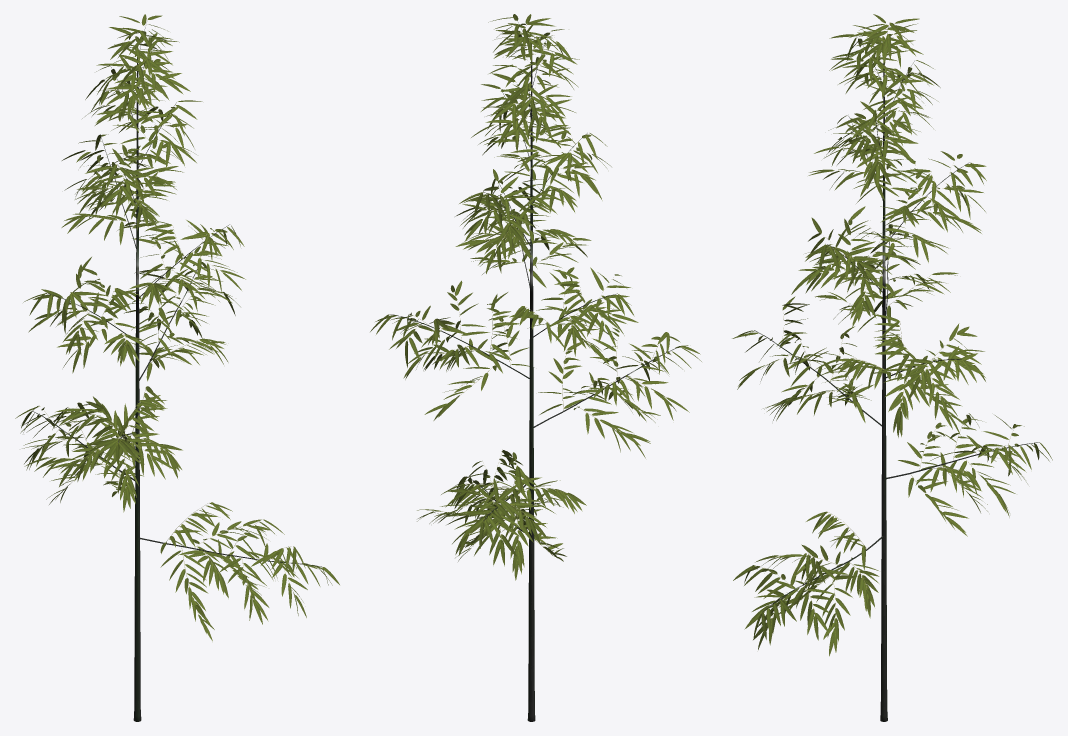
The picture shows the model from 3 angles, left to right: view 1: azimuth 30°, elevation 25°; view 2: azimuth 150°, elevation 25°; view 3: azimuth 270°, elevation 25°; orthographic projection.
Visible parts, largest first — view 1: Bamboo_Medium_1.Shape; view 2: Bamboo_Medium_1.Shape; view 3: Bamboo_Medium_1.Shape.
Boxes of the visible parts, x1,y1,x2,y2 form: Bamboo_Medium_1.Shape: (15, 14, 339, 721); Bamboo_Medium_1.Shape: (370, 14, 701, 721); Bamboo_Medium_1.Shape: (732, 14, 1052, 721).
Size of the model in its own units: 0.785 by 2.07 by 0.8603.
3 materials, 2 textured.
